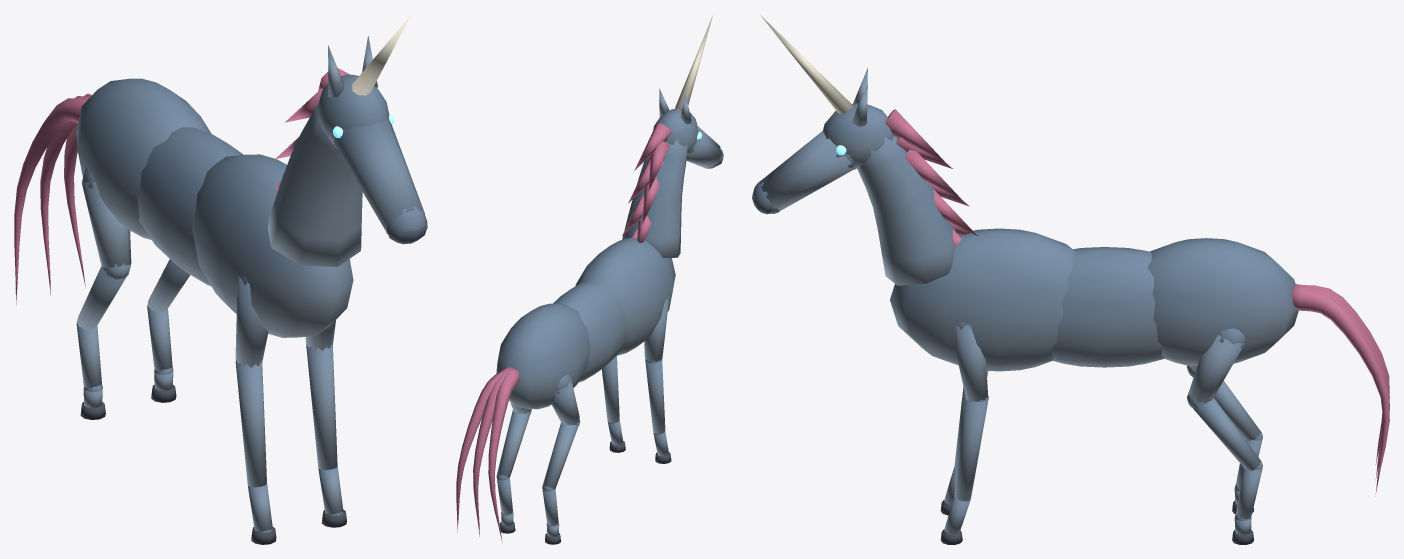
The model's file is unicorn.glb.
3 renders of one model, left to right at view 1: azimuth 30°, elevation 25°; view 2: azimuth 150°, elevation 25°; view 3: azimuth 270°, elevation 25°, orthographic. The views are drawn at different scales.
Visible parts, largest first — view 1: body, head, leg_FR, leg_HR, tail, leg_FL, leg_HL; view 2: body, head, tail, leg_HR, leg_FR, leg_HL, leg_FL; view 3: body, head, leg_HL, leg_FL, tail, leg_HR.
Boxes of the visible parts, x1,y1,x2,y2 form: body: [76, 78, 353, 337]; head: [268, 15, 427, 266]; leg_FR: [235, 276, 276, 544]; leg_HR: [76, 167, 131, 419]; tail: [14, 93, 91, 305]; leg_FL: [305, 320, 346, 527]; leg_HL: [147, 259, 189, 402]; body: [496, 237, 675, 409]; head: [622, 16, 723, 257]; tail: [456, 367, 519, 543]; leg_HR: [542, 374, 580, 544]; leg_FR: [644, 296, 671, 463]; leg_HL: [496, 402, 531, 533]; leg_FL: [602, 356, 625, 452]; body: [890, 228, 1298, 371]; head: [752, 15, 977, 285]; leg_HL: [1187, 328, 1262, 544]; leg_FL: [940, 322, 988, 544]; tail: [1291, 284, 1389, 496]; leg_HR: [1187, 365, 1262, 514].
Size of the model in its own units: 0.55 by 2.95 by 3.33.
